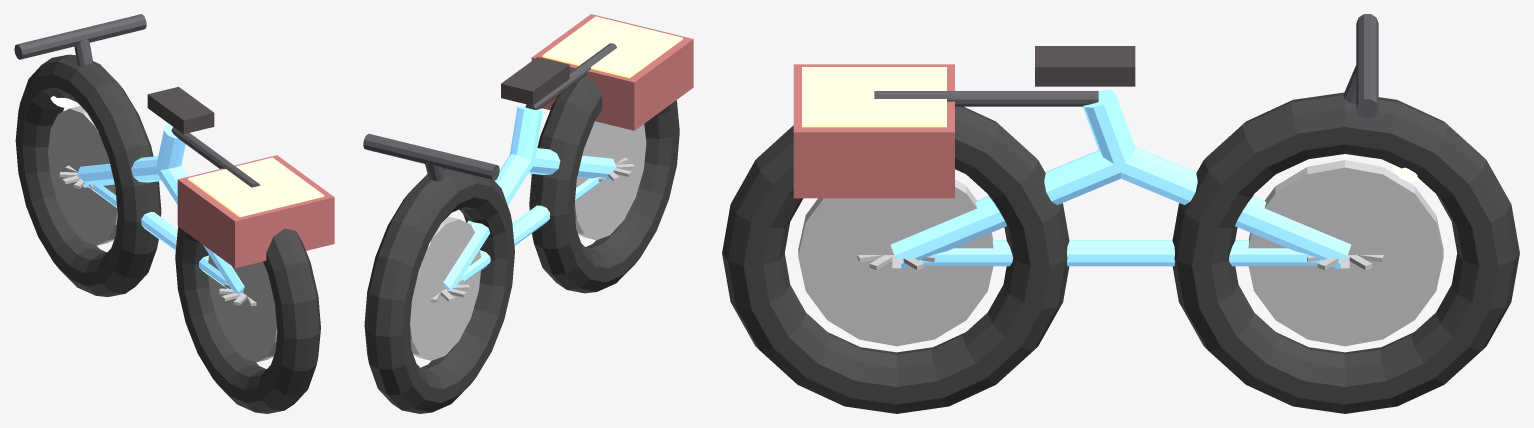
File: bike.glb
3 views of the same model, side by side, from view 1: azimuth 30°, elevation 25°; view 2: azimuth 150°, elevation 25°; view 3: azimuth 270°, elevation 25° (orthographic). The views are drawn at different scales.
Visible parts, largest first — view 1: Torus.001, Torus, Cube.011, Cylinder.001, Cylinder, Cube.012, Cylinder.006, Cube.010, Cylinder.004, Cylinder.002, Cylinder.003, Cylinder.009 (+2 smaller); view 2: Torus.001, Torus, Cylinder.001, Cube.011, Cylinder, Cube.012, Cylinder.006, Cube.010, Cylinder.002, Cylinder.004, Cylinder.003, Cylinder.005 (+1 smaller); view 3: Torus.001, Torus, Cylinder.001, Cylinder, Cube.011, Cube.012, Cylinder.004, Cylinder.002, Cylinder.003, Cube.010, Cylinder.009, Cylinder.005 (+1 smaller).
Part boxes in pixels (x1,y1,x2,y2): Torus.001: (15, 54, 161, 296); Torus: (175, 227, 320, 413); Cube.011: (177, 155, 334, 268); Cylinder.001: (48, 106, 117, 245); Cylinder: (208, 255, 277, 362); Cube.012: (188, 157, 324, 217); Cylinder.006: (14, 14, 146, 59); Cube.010: (147, 86, 214, 134); Cylinder.004: (87, 184, 229, 288); Cylinder.002: (77, 156, 161, 187); Cylinder.003: (157, 165, 244, 293); Cylinder.009: (171, 127, 260, 187); Torus.001: (364, 168, 514, 413); Torus: (529, 76, 679, 293); Cylinder.001: (409, 216, 480, 360); Cube.011: (531, 14, 693, 130); Cylinder: (574, 121, 646, 240); Cube.012: (542, 16, 682, 78); Cylinder.006: (363, 133, 499, 180); Cube.010: (501, 57, 569, 105); Cylinder.002: (443, 154, 533, 289); Cylinder.004: (459, 177, 605, 284); Cylinder.003: (528, 148, 615, 180); Cylinder.005: (509, 106, 542, 162); Torus.001: (1172, 92, 1519, 413); Torus: (722, 106, 1069, 413); Cylinder.001: (1248, 160, 1443, 346); Cylinder: (798, 179, 993, 346); Cube.011: (793, 64, 954, 198); Cube.012: (802, 67, 946, 127); Cylinder.004: (919, 240, 1322, 266); Cylinder.002: (1119, 147, 1351, 269); Cylinder.003: (890, 150, 1122, 269); Cube.010: (1035, 46, 1135, 86); Cylinder.009: (874, 91, 1098, 106); Cylinder.005: (1083, 90, 1135, 167).
Size of the model in its own units: 0.45 by 0.874 by 1.78.
